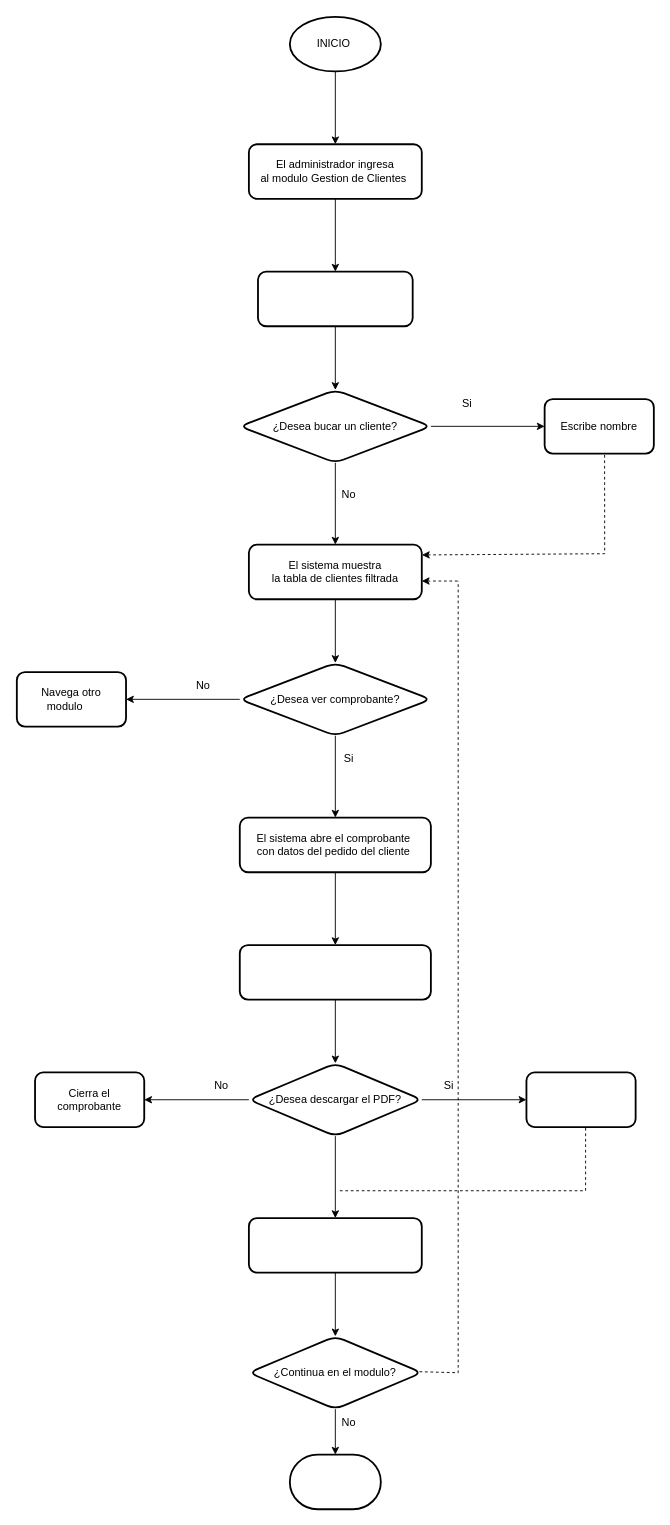
The diagram is 670 pixels wide and 1525 high, and some of its shapes have lost their labels. Here are the shapes that lost their labels. From the top down, the centre of each, then its label:
point 335,298: El sistema carga la lista de clientes registrados
point 334,972: Muestra: numero de orden, productos, fechas y estado de entrega
point 580,1099: Genera y descarga el comprobante
point 335,1245: El sistema muestra mensaje de confirmacion
point 334,1481: FIN
